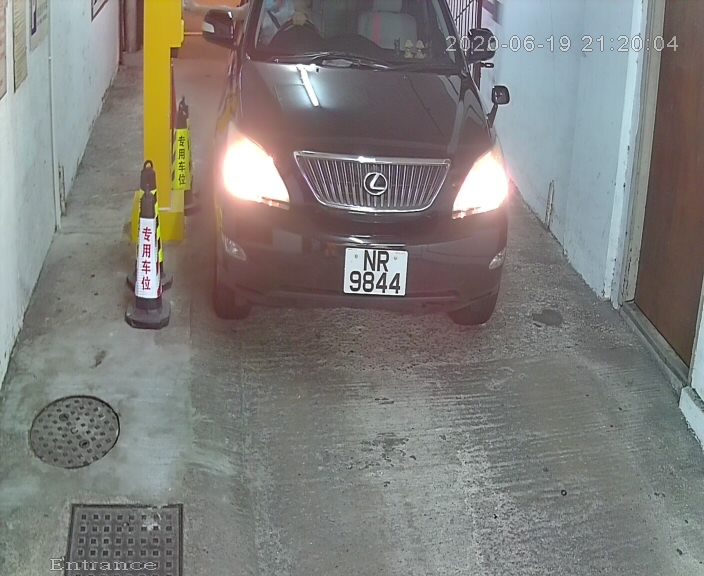privatecar: (201, 3, 523, 322)
